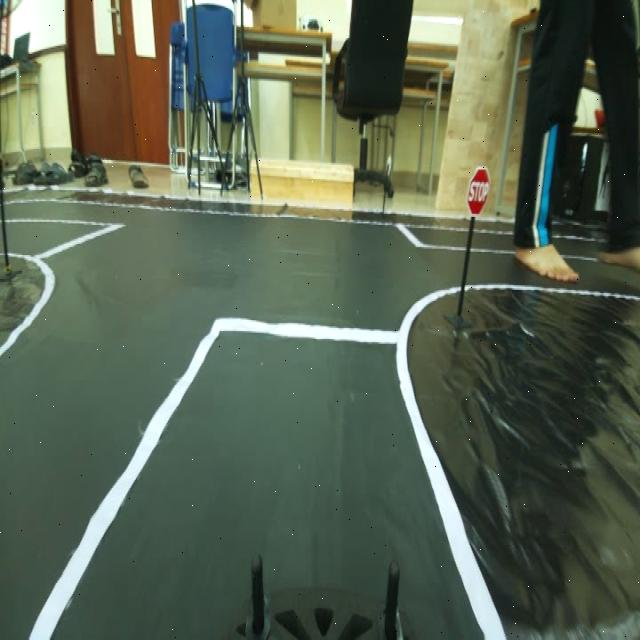stop: (466, 156, 488, 218)
